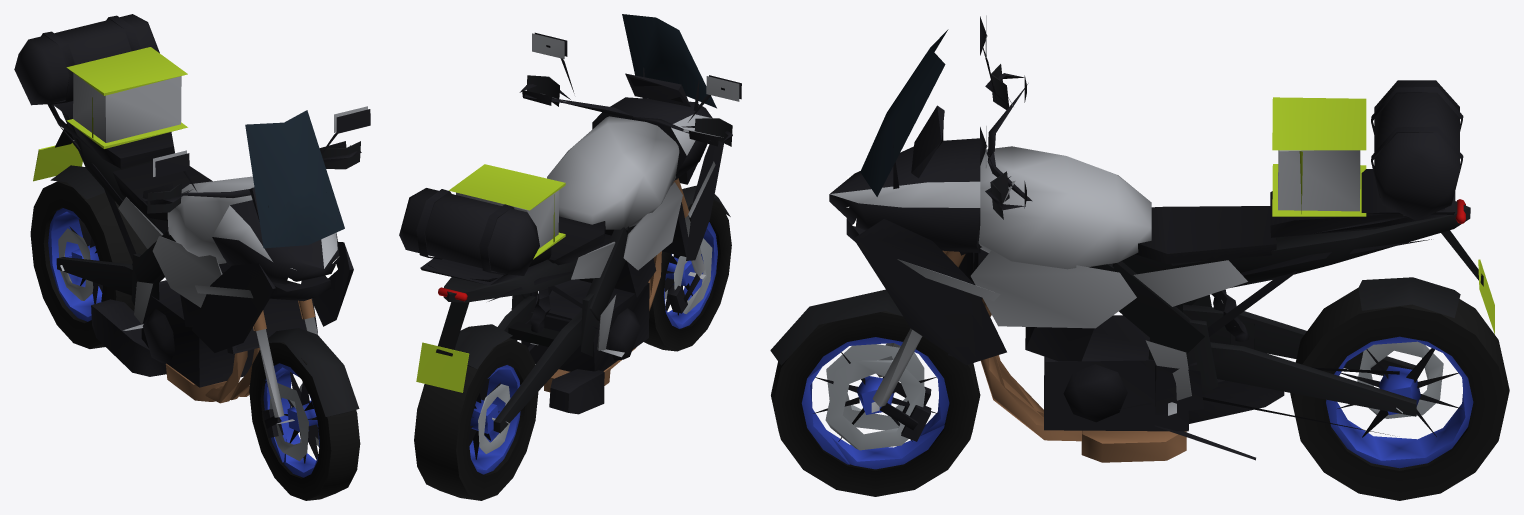
File: bike12_tracer9gt.glb
3 renders of one model, left to right at view 1: azimuth 30°, elevation 25°; view 2: azimuth 150°, elevation 25°; view 3: azimuth 270°, elevation 25°, orthographic. The views are drawn at different scales.
Visible parts, largest first — view 1: body, wheel_front, wheel_rear; view 2: body, wheel_rear, wheel_front; view 3: body, wheel_rear, wheel_front.
Part boxes in pixels (left/top/right/bottom): body: left=14, top=14, right=370, bottom=437; wheel_front: left=249, top=342, right=360, bottom=500; wheel_rear: left=30, top=181, right=147, bottom=348; body: left=399, top=14, right=741, bottom=433; wheel_rear: left=414, top=338, right=538, bottom=500; wheel_front: left=644, top=200, right=731, bottom=351; body: left=770, top=15, right=1494, bottom=462; wheel_rear: left=1290, top=288, right=1509, bottom=500; wheel_front: left=771, top=311, right=980, bottom=496.
Bounding box in the file's own units: 0.8935 × 1.4 × 2.12.
